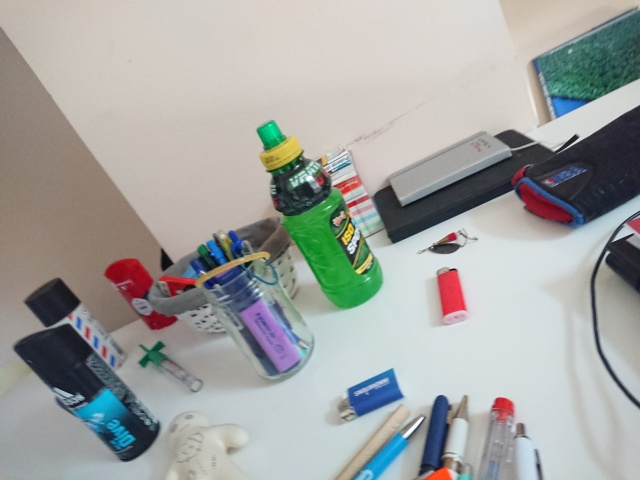Vindi Iso Sport Lemon-Grapefruit 500mL: (254, 118, 386, 312)
